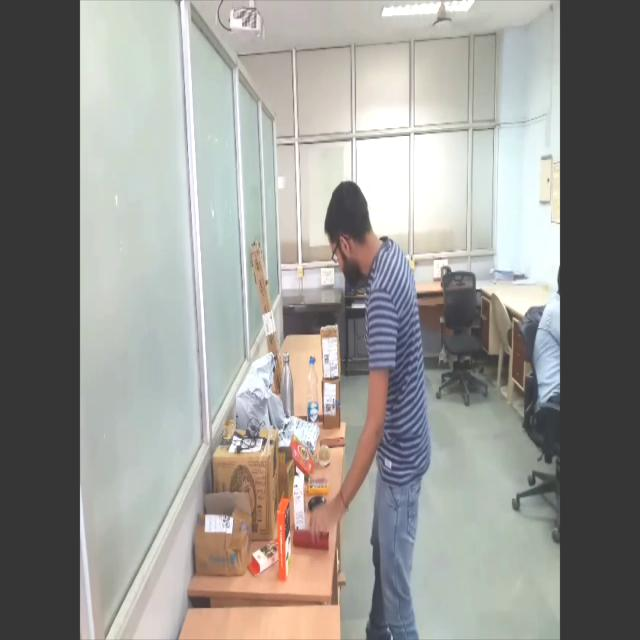normal: (307, 176, 433, 640)
